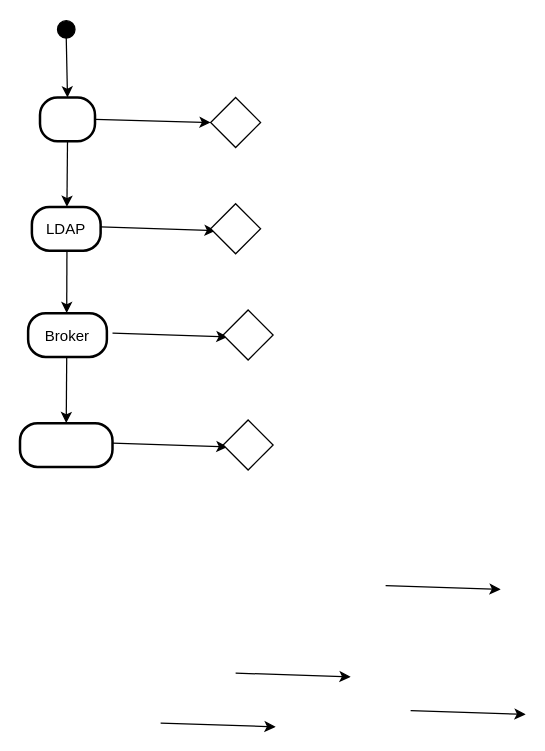
The diagram is 545 pixels wide and 751 high, and some of its shapes have lost their labels. Here are the shapes that lost their labels. From the top down, the box of each, then its label:
(38, 96, 96, 142): SSo
(18, 421, 113, 468): Request
